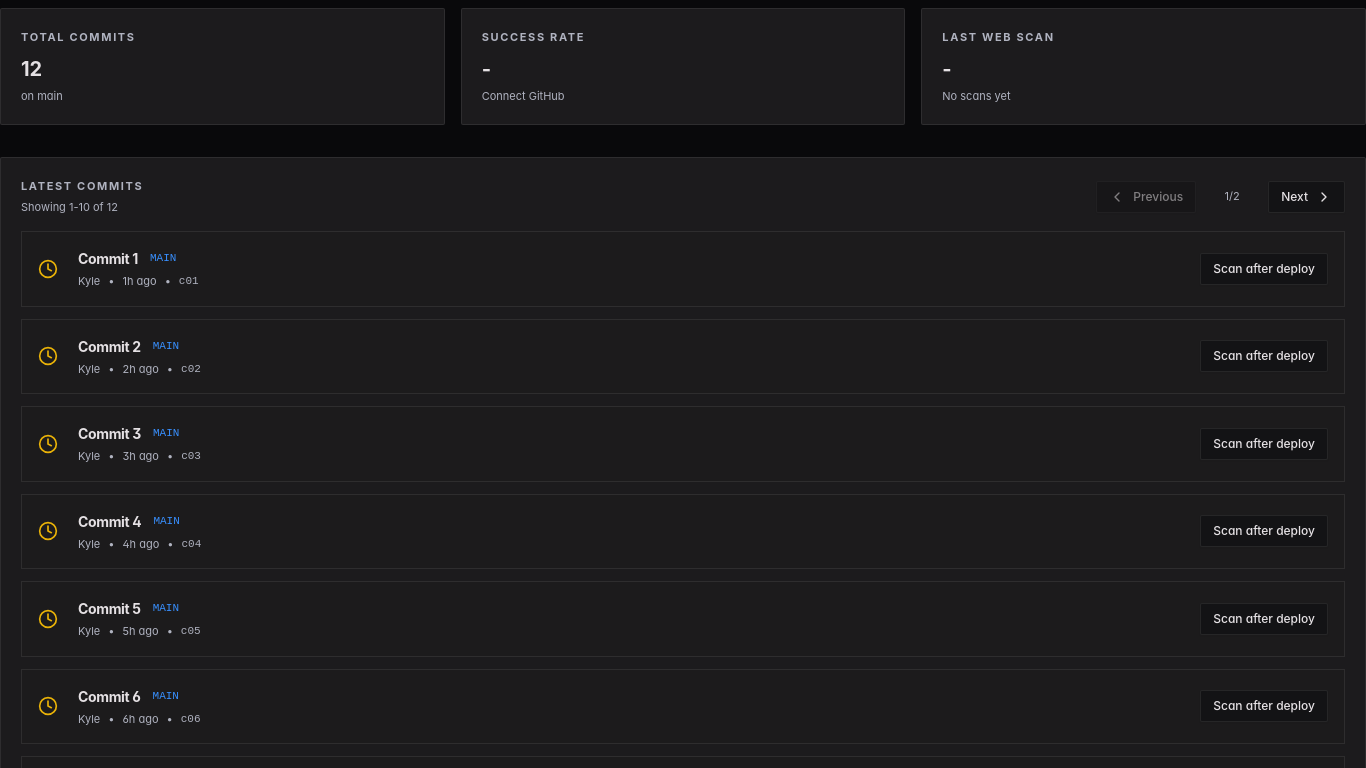
Scenario: DeploysPage › shows the latest ten commits by default and paginates older commits
The width and height of the screenshot is (1366, 768).
expect the text "Latest Commits" is shown: met, box [21,178,143,194]
expect the text "Showing 1-10 of 12" is shown: met, box [21,200,118,214]
Step 1. Click the button with aria-label "Next commits page" → (1307, 196), box [1268,180,1345,212]
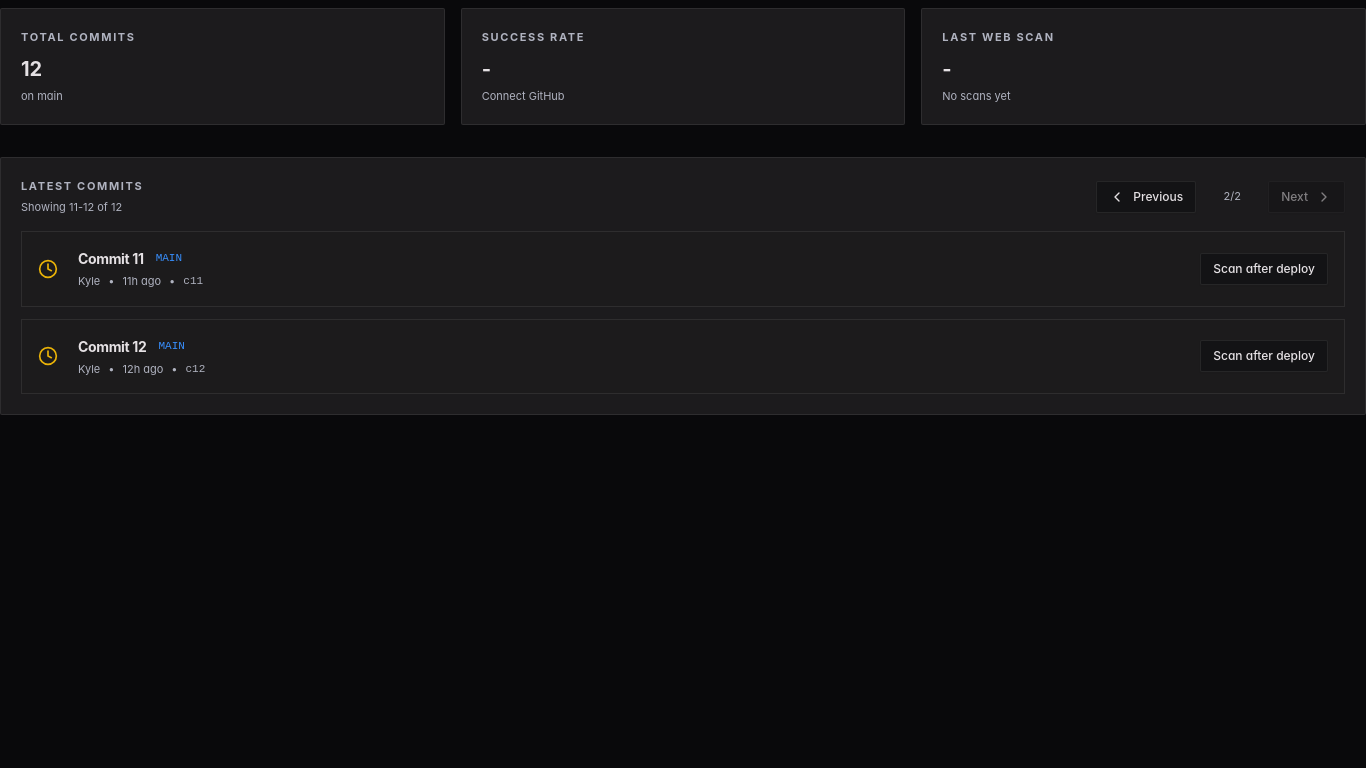
expect the text "Showing 11-12 of 12" is shown: met, box [21,200,122,214]
expect the heading "Commit 11" is shown: met, box [78,248,144,269]
expect the heading "Commit 12" is shown: met, box [78,336,146,356]
Step 2. Click the button with aria-label "Previous commits page" → (1146, 196), box [1096,180,1196,212]
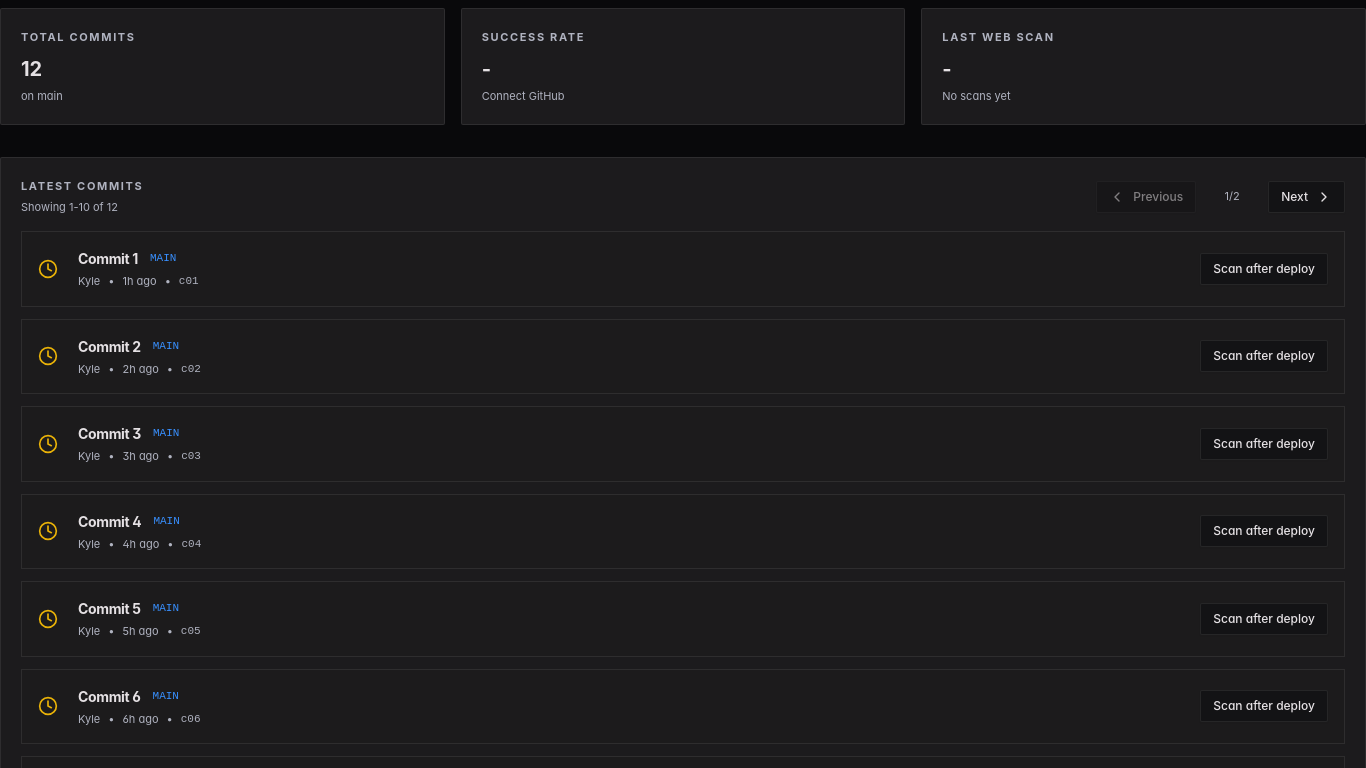
expect the text "Showing 1-10 of 12" is shown: met, box [21,200,118,214]
